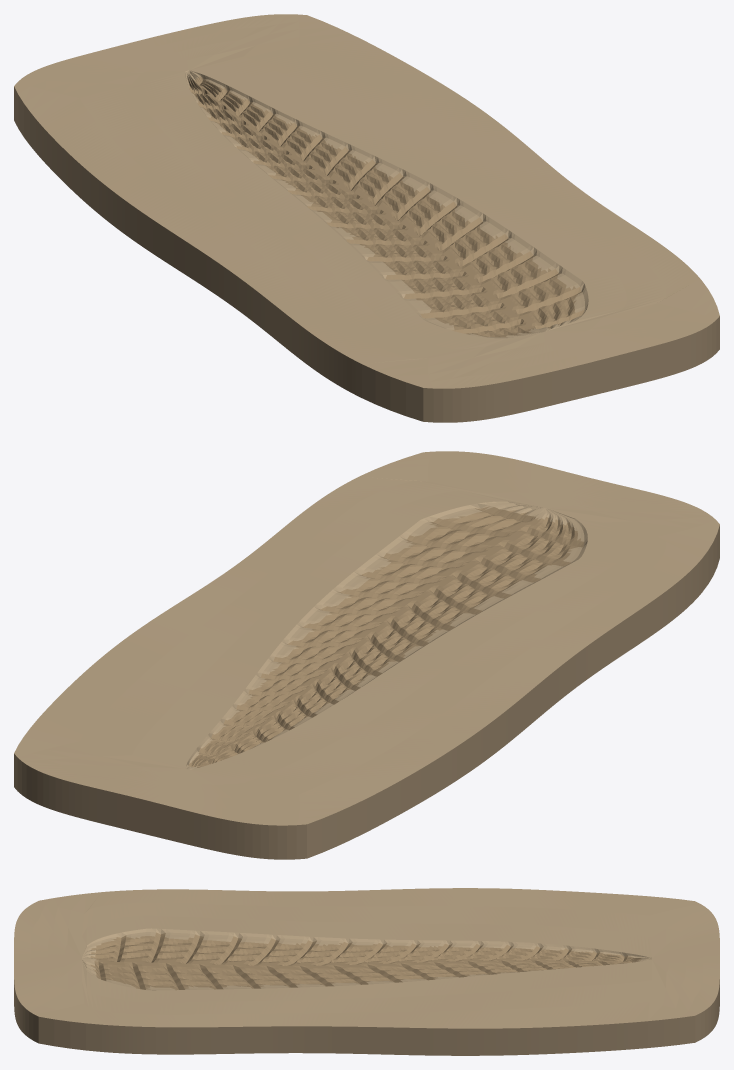
File: charnia.glb
3 renders of one model, top to bottom at view 1: azimuth 30°, elevation 25°; view 2: azimuth 150°, elevation 25°; view 3: azimuth 270°, elevation 25°, orthographic. The views are drawn at different scales.
Parts seen in each view (by area): view 1: Charnia_masoni_fossil_impression_BGS_GSM105873_informed_not_; view 2: Charnia_masoni_fossil_impression_BGS_GSM105873_informed_not_; view 3: Charnia_masoni_fossil_impression_BGS_GSM105873_informed_not_.
Part boxes in pixels (x1=…): Charnia_masoni_fossil_impression_BGS_GSM105873_informed_not_: x1=14, y1=14, x2=719, y2=422; Charnia_masoni_fossil_impression_BGS_GSM105873_informed_not_: x1=14, y1=451, x2=719, y2=859; Charnia_masoni_fossil_impression_BGS_GSM105873_informed_not_: x1=14, y1=888, x2=719, y2=1055.
Size of the model in its own units: 0.1223 by 0.0111 by 0.26.
